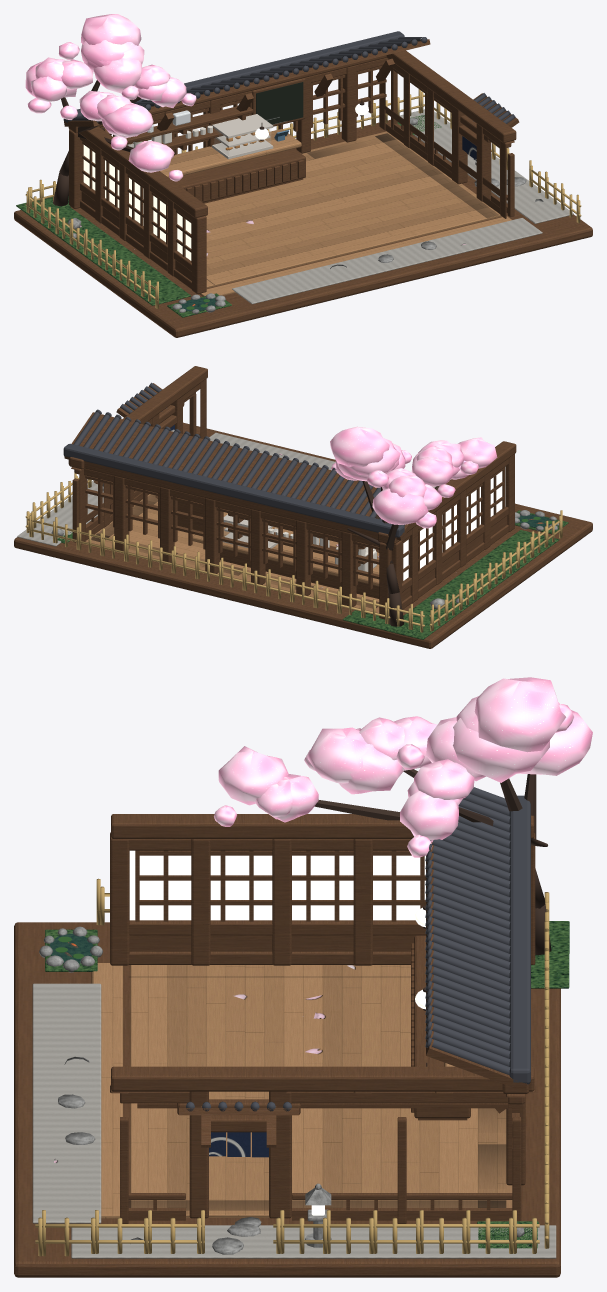
The model's file is cafe-shell.glb.
3 views of the same model, one above another, from view 1: azimuth 30°, elevation 25°; view 2: azimuth 150°, elevation 25°; view 3: azimuth 270°, elevation 25° (orthographic). The views are drawn at different scales.
Visible parts, largest first — view 1: TimberWork, FloorPlanks, WalnutWork, CherryBlossoms, GardenGravel, RoofTiles, BambooFence, GardenMossBeds, CounterTop, ShojiPanels, PastryCaseFrame, AOSkirts (+5 smaller); view 2: TimberWork, WalnutWork, RoofTiles, CherryBlossoms, BambooFence, GardenMossBeds, FloorPlanks, GardenGravel, ShojiPanels, CherryTree, CounterTop, VerandaRail (+4 smaller); view 3: FloorPlanks, TimberWork, WalnutWork, CherryBlossoms, RoofTiles, GardenGravel, ShojiPanels, BambooFence, VerandaRail, GardenMossBeds, StoneWork, AOSkirts (+3 smaller).
Boxes of the visible parts, x1,y1,x2,y2 form: TimberWork: [64, 39, 519, 293]; FloorPlanks: [199, 131, 511, 296]; WalnutWork: [14, 78, 592, 337]; CherryBlossoms: [25, 14, 196, 181]; GardenGravel: [232, 109, 573, 304]; RoofTiles: [63, 31, 515, 123]; BambooFence: [25, 89, 581, 308]; GardenMossBeds: [16, 115, 441, 317]; CounterTop: [160, 129, 301, 178]; ShojiPanels: [83, 145, 191, 260]; PastryCaseFrame: [212, 114, 273, 159]; AOSkirts: [207, 133, 498, 284]; TimberWork: [64, 366, 516, 619]; WalnutWork: [14, 422, 592, 648]; RoofTiles: [63, 382, 404, 537]; CherryBlossoms: [330, 426, 497, 528]; BambooFence: [25, 472, 562, 632]; GardenMossBeds: [57, 510, 568, 639]; FloorPlanks: [85, 494, 515, 613]; GardenGravel: [17, 432, 435, 546]; ShojiPanels: [403, 467, 505, 580]; CherryTree: [347, 481, 439, 626]; CounterTop: [192, 527, 379, 586]; VerandaRail: [72, 394, 196, 542]; FloorPlanks: [91, 963, 512, 1218]; TimberWork: [110, 814, 535, 1218]; WalnutWork: [14, 922, 560, 1277]; CherryBlossoms: [214, 677, 592, 857]; RoofTiles: [186, 787, 530, 1111]; GardenGravel: [32, 983, 556, 1258]; ShojiPanels: [129, 850, 425, 920]; BambooFence: [35, 878, 549, 1256]; VerandaRail: [120, 1117, 521, 1223]; GardenMossBeds: [45, 921, 569, 1248]; StoneWork: [39, 926, 524, 1254]; AOSkirts: [129, 1109, 506, 1210].
Bounding box in the file's own units: 0.92 × 0.405 × 0.6564.
Materials: 28 (13 with a texture image).
